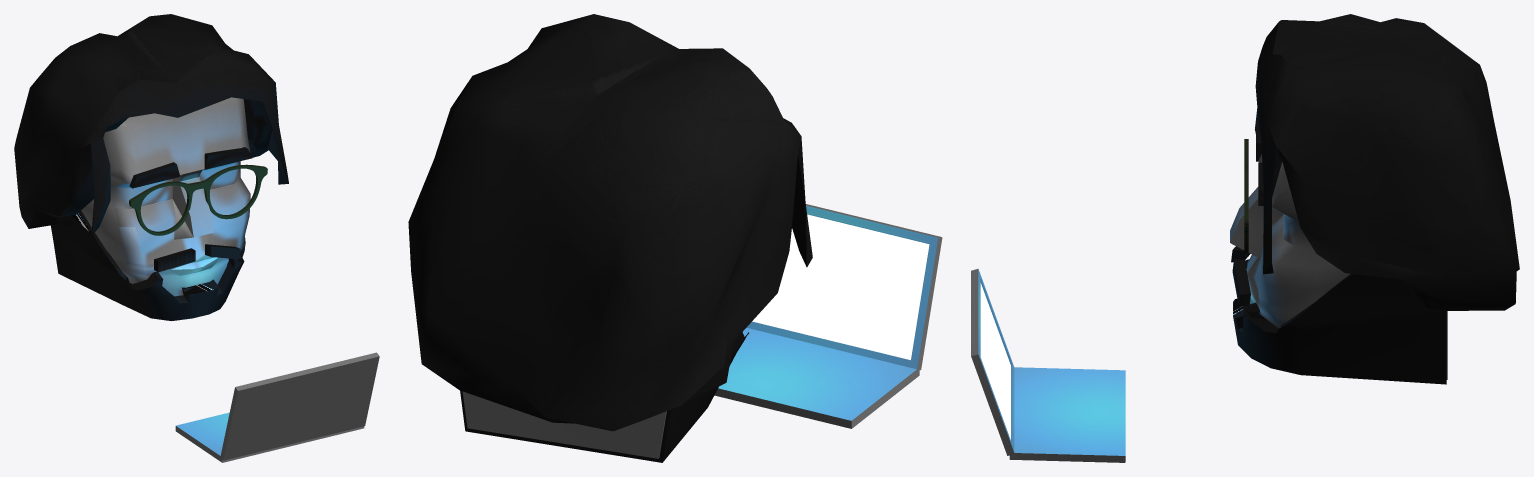
3 views of the same model, side by side, from view 1: azimuth 30°, elevation 25°; view 2: azimuth 150°, elevation 25°; view 3: azimuth 270°, elevation 25° (orthographic). The views are drawn at different scales.
Parts seen in each view (by area): view 1: tete; view 2: tete, Plane_1; view 3: tete, Plane_1.
Boxes of the visible parts, left/top/right/bottom form: tete: left=14, top=14, right=379, bottom=462; tete: left=408, top=14, right=942, bottom=462; Plane_1: left=752, top=214, right=929, bottom=359; tete: left=971, top=14, right=1519, bottom=462; Plane_1: left=980, top=283, right=1010, bottom=439.
Size of the model in its own units: 157 by 222 by 290.
2 materials, 1 textured.
